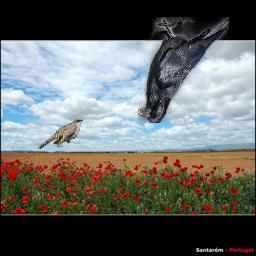Crow: (139, 17, 230, 123)
Cuckoo: (37, 119, 83, 150)
